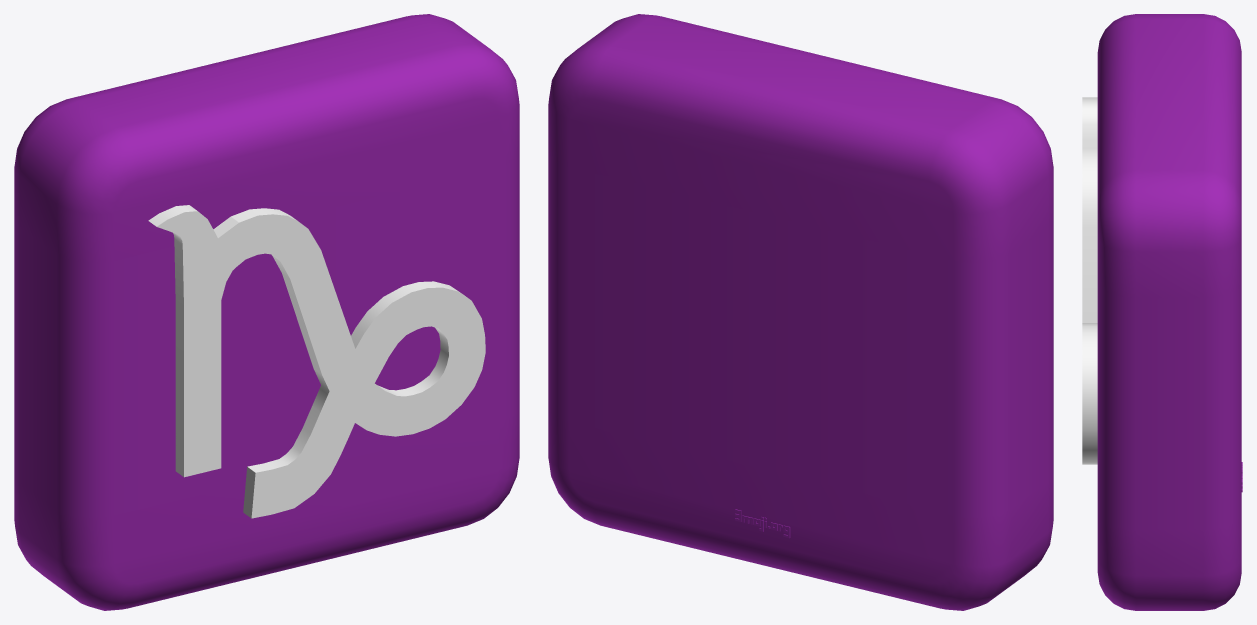
File: capricorn.fbx
3 views of the same model, side by side, from view 1: azimuth 30°, elevation 25°; view 2: azimuth 150°, elevation 25°; view 3: azimuth 270°, elevation 25° (orthographic). The views are drawn at different scales.
Parts seen in each view (by area): view 1: Cube.6408; view 2: Cube.6408; view 3: Cube.6408.
Part boxes in pixels (x1=…): Cube.6408: x1=14, y1=14, x2=519, y2=610; Cube.6408: x1=548, y1=14, x2=1053, y2=610; Cube.6408: x1=1082, y1=14, x2=1242, y2=610.
Size of the model in its own units: 220 by 220 by 73.37.
Materials: 1 (1 with a texture image).
